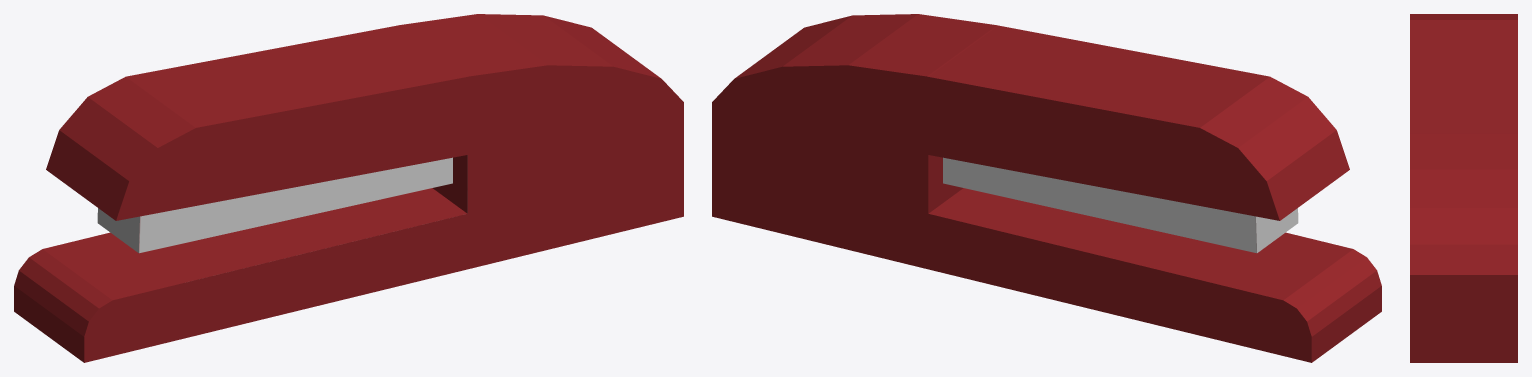
The model's file is red_stapler.fbx.
The picture shows the model from 3 angles, left to right: view 1: azimuth 30°, elevation 25°; view 2: azimuth 150°, elevation 25°; view 3: azimuth 270°, elevation 25°; orthographic projection. The views are drawn at different scales.
Parts seen in each view (by area): view 1: stapler_baked; view 2: stapler_baked; view 3: stapler_baked.
Part boxes in pixels (x1,y1,x2,y2): stapler_baked: (14,14,683,362); stapler_baked: (712,14,1381,362); stapler_baked: (1410,14,1517,362).
Size of the model in its own units: 18.77 by 6.22 by 3.8.
1 material, 1 textured.
